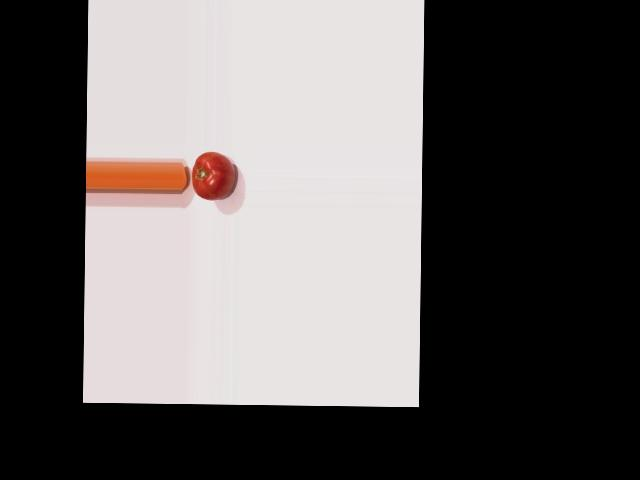tomato: (192, 151, 234, 199)
